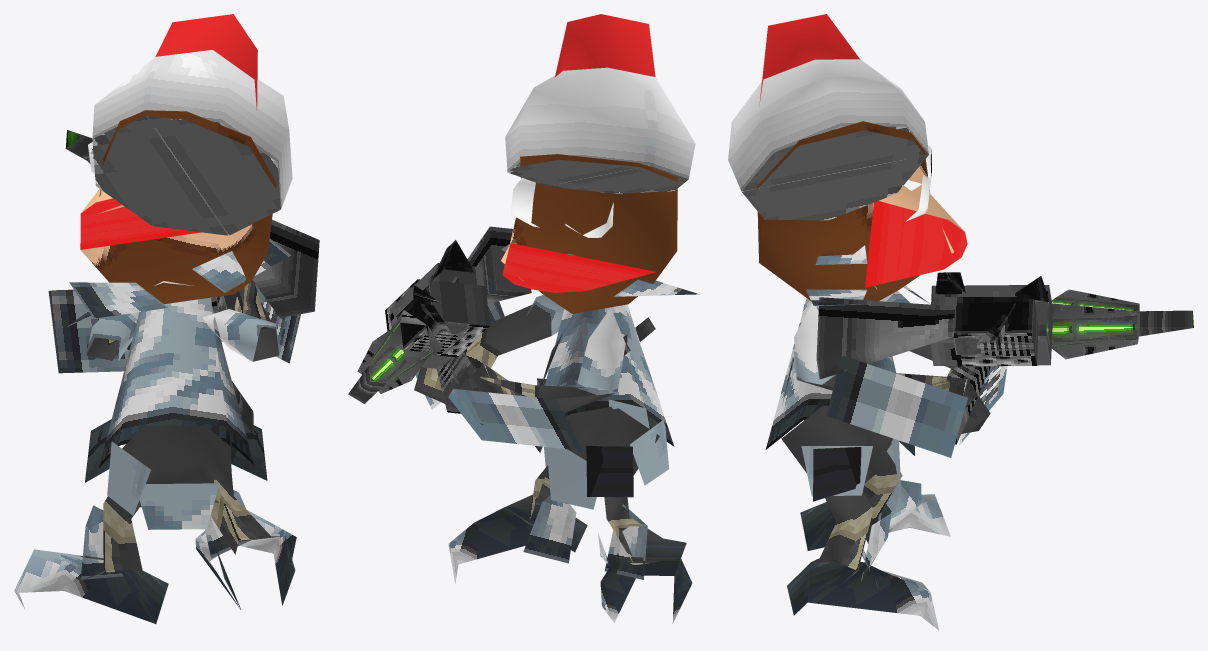
Rendered from ps2_save-icons_sarugetchumillionmonkeys.glb.
The picture shows the model from 3 angles, left to right: view 1: azimuth 30°, elevation 25°; view 2: azimuth 150°, elevation 25°; view 3: azimuth 270°, elevation 25°; orthographic projection. The views are drawn at different scales.
Visible parts, largest first — view 1: static.ico; view 2: static.ico; view 3: static.ico.
Boxes of the visible parts, x1,y1,x2,y2 form: static.ico: [14, 14, 319, 623]; static.ico: [348, 14, 698, 623]; static.ico: [728, 14, 1193, 630].
Bounding box in the file's own units: 2.29 × 4.67 × 3.5.
Materials: 1 (1 with a texture image).
